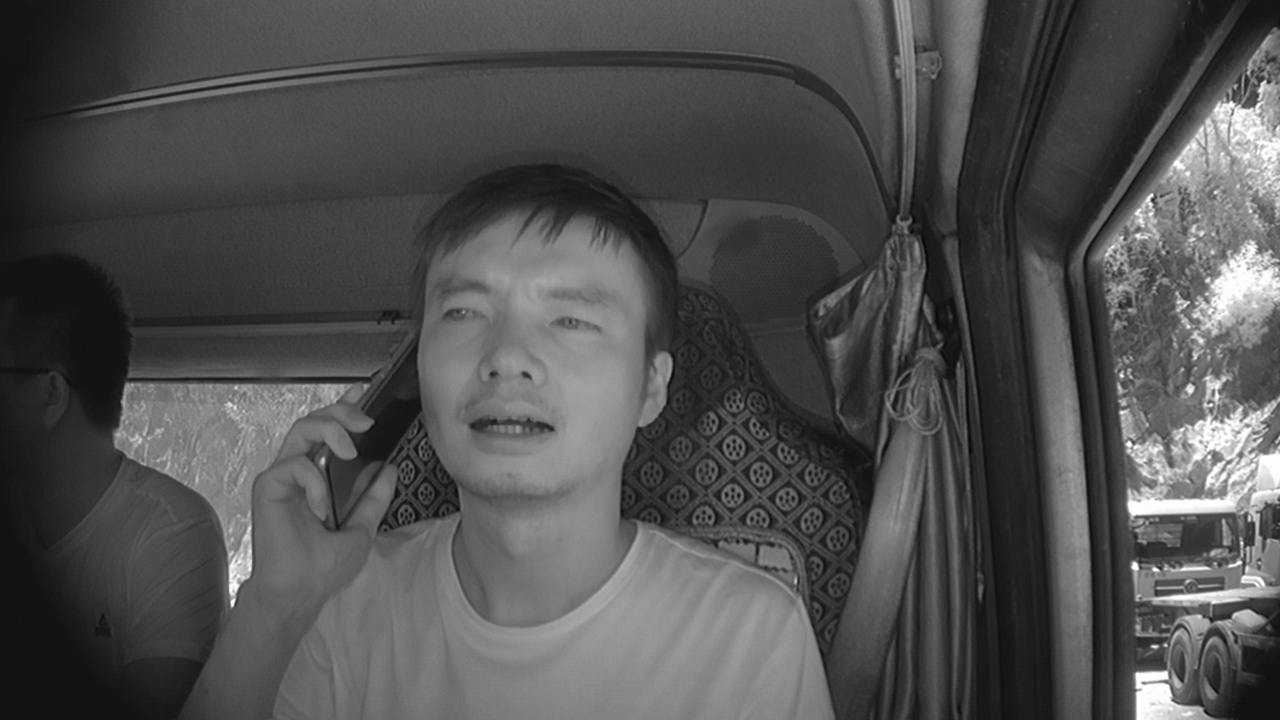hand: (249, 384, 398, 584)
